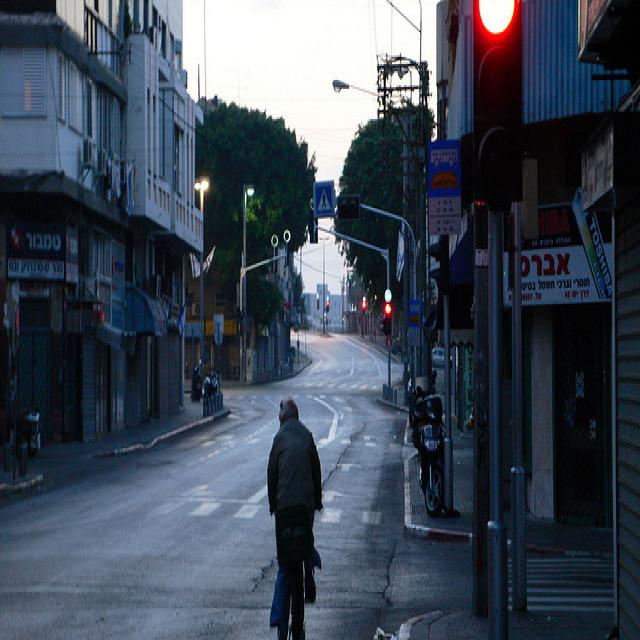motor: (419, 423, 445, 516), (8, 412, 44, 459), (192, 366, 220, 398)
